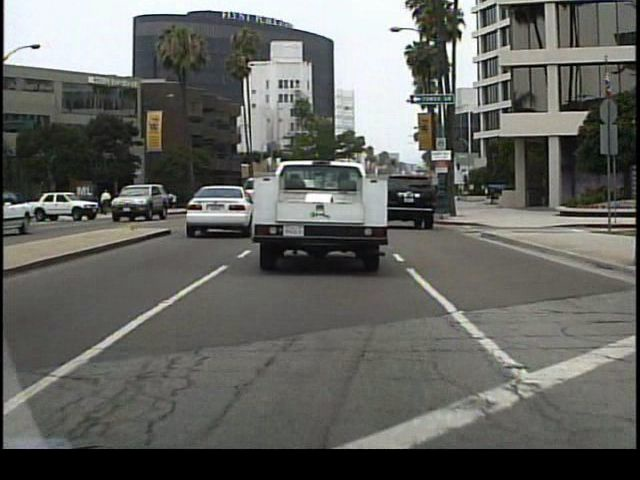person: (130, 182, 147, 213), (87, 188, 101, 219), (101, 185, 113, 219)
